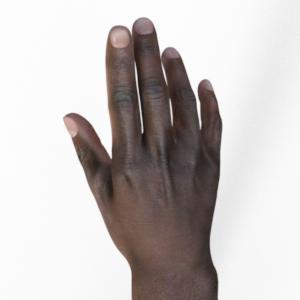paper: (64, 18, 221, 300)
